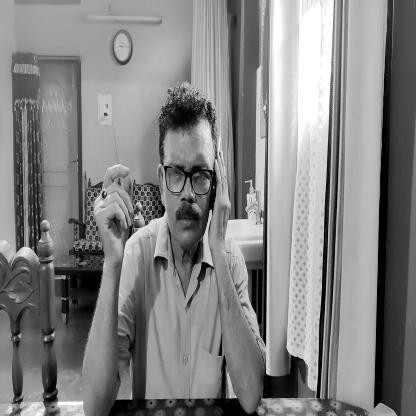Normal: (155, 86, 218, 253)
